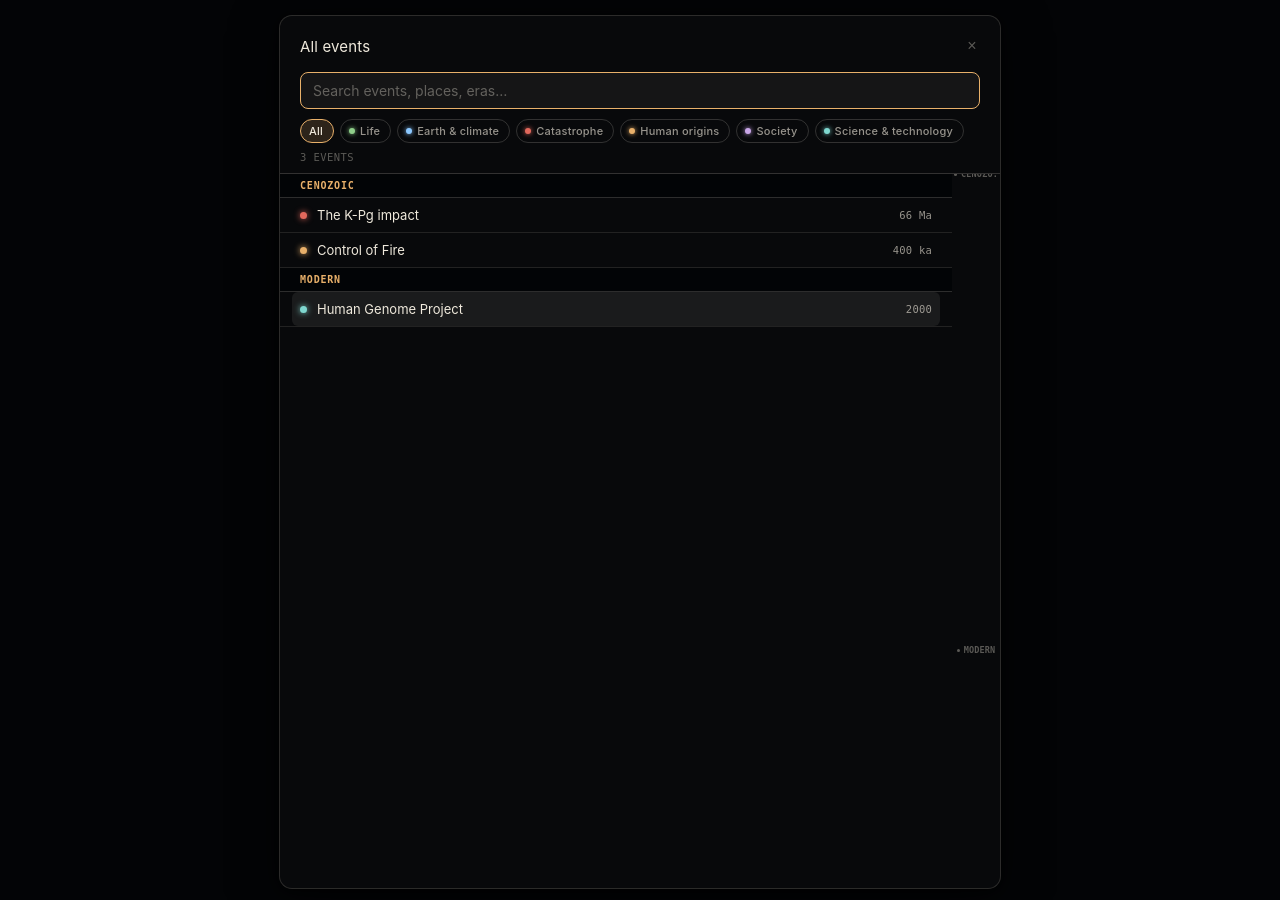
EventBrowser › shows a no-match message and drops the rail when nothing matches
Type "nonexistent-xyz" into the dropdown with test id "event-browser-search".
click(640, 90); type("nonexistent-xyz")  # box 300,72 -> 980,109
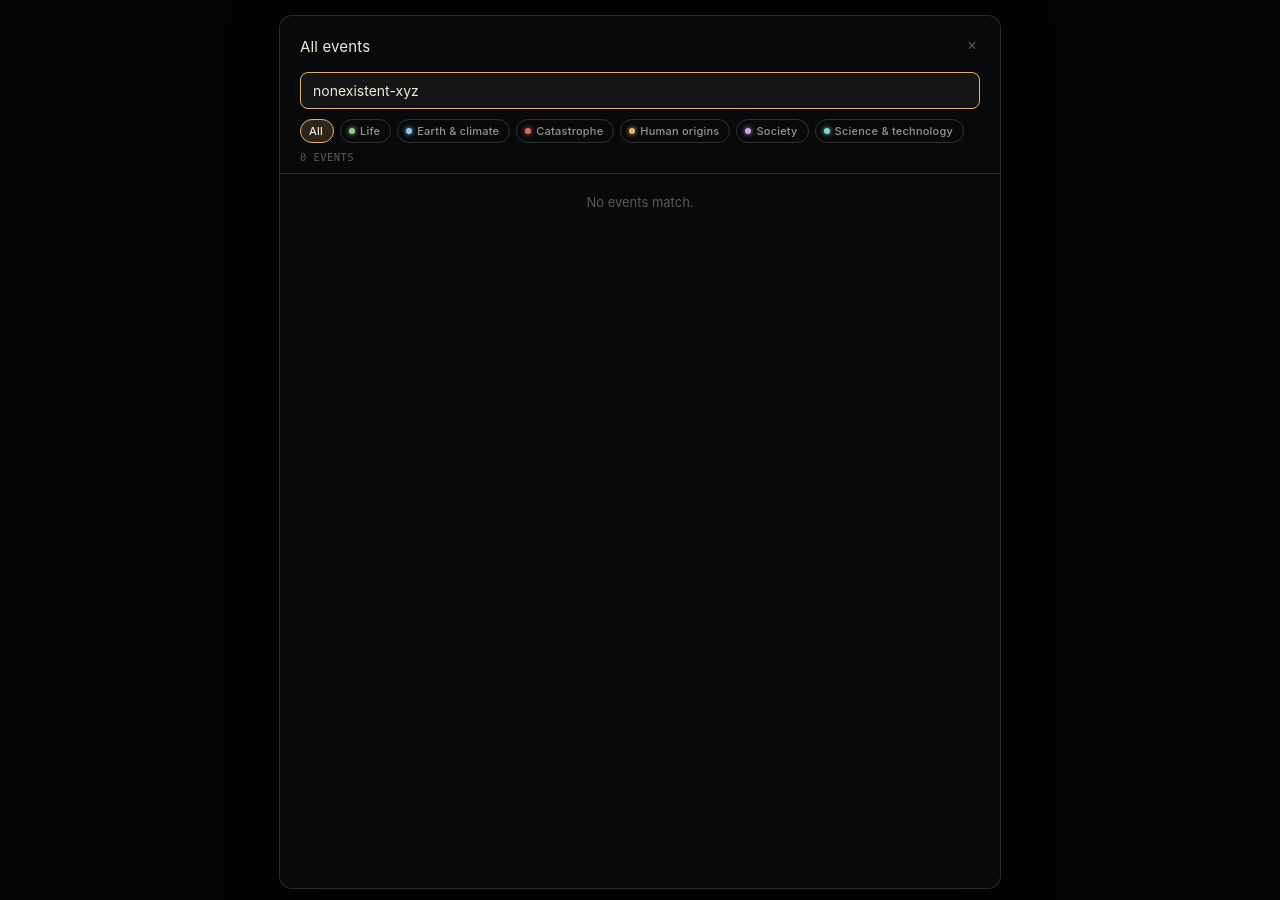
Expected: no options are shown
Expected: the list item "No events match." is shown, 586,194 -> 694,210
Expected: the element with test id "event-browser-rail" is gone
